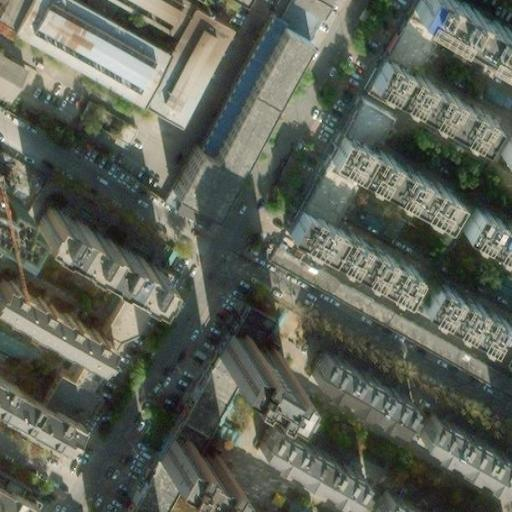building: (172, 24, 308, 209), (280, 84, 394, 233), (8, 0, 160, 97), (170, 303, 269, 447), (35, 202, 168, 294), (195, 18, 281, 155), (284, 208, 412, 298), (327, 134, 453, 223), (364, 60, 489, 148), (140, 9, 230, 124), (244, 419, 356, 502), (405, 406, 512, 486), (23, 71, 126, 151), (298, 346, 401, 423), (406, 0, 512, 73), (424, 283, 512, 360), (219, 333, 291, 393), (93, 277, 154, 341), (158, 433, 228, 488), (39, 354, 97, 420), (378, 13, 435, 77), (456, 203, 512, 258), (125, 454, 178, 512), (270, 0, 326, 40), (360, 486, 419, 512), (0, 476, 35, 512), (495, 127, 512, 159)
